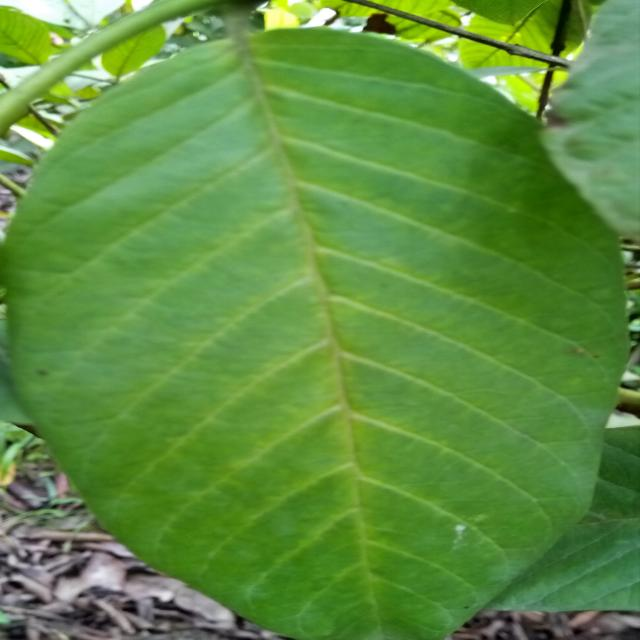Disease Free: (4, 29, 626, 640)
